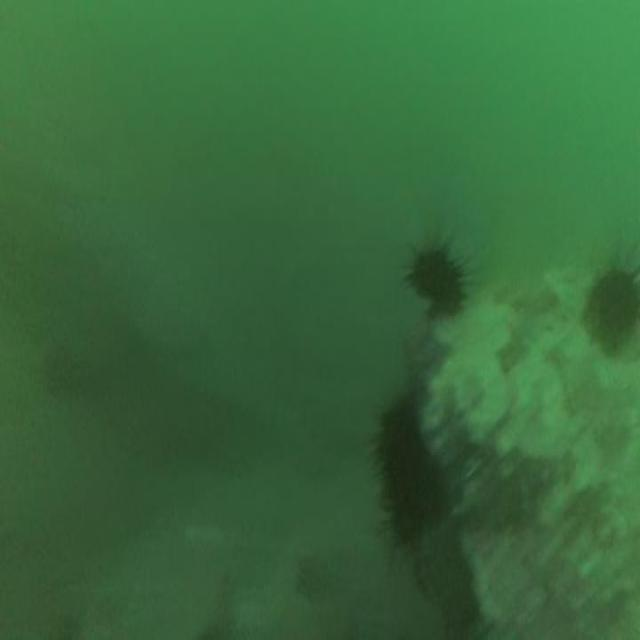echinus: (390, 458, 447, 538), (410, 248, 463, 318), (589, 269, 639, 341), (376, 404, 419, 480)
